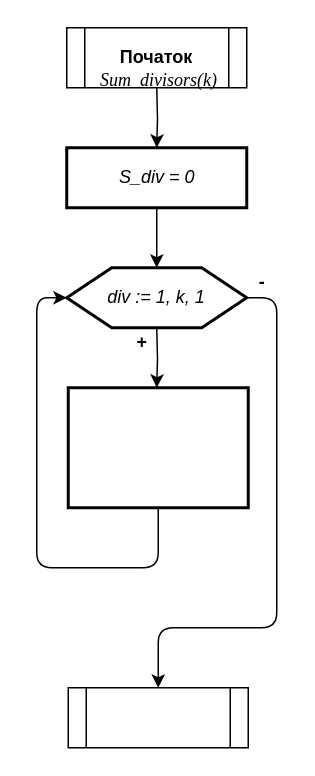
Some shapes in this 315 by 776 pixel diagram are drawn without their labels. Here are the shapes that lost their labels. From the top down, the centre of each, then its label:
the point at 157,447: Визначення чи є поточне значення div дільником числа k та знаходження суми
the point at 157,717: Кінець Sum_divisors( k )
